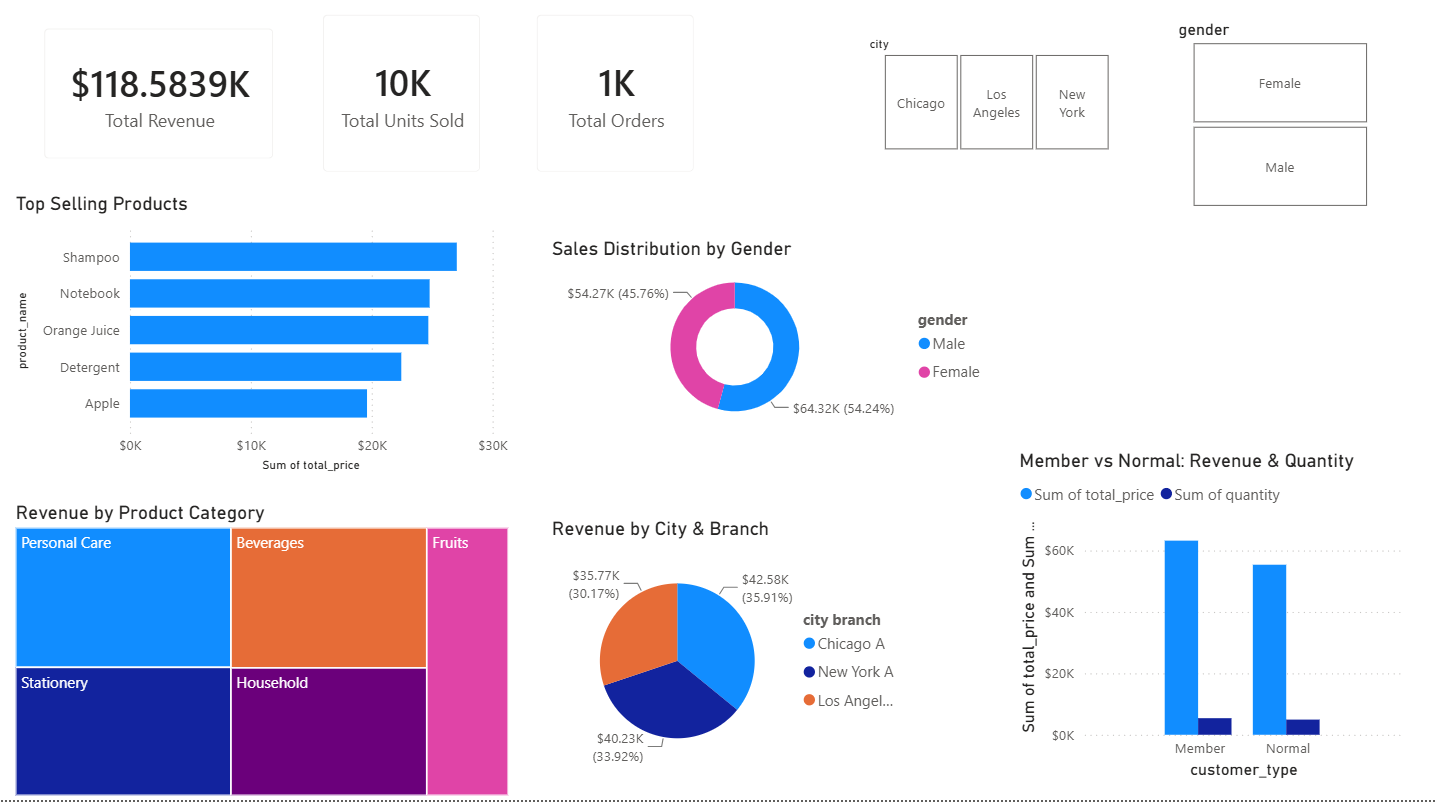

This screenshot's page, from the dashboard's own definition file:
{"tool":"powerbi","page":{"name":"Page 1","canvas":[1280,720],"ordinal":0},"visuals":[{"type":"cardVisual","fields":{"Data":["Sum(Query1.total_price)"]},"box":[23.3,15.1,238.8,150.9],"z":0},{"type":"cardVisual","fields":{"Data":["CountNonNull(Query1.sales_id)"]},"box":[461.8,3.4,174.3,174.3],"z":1},{"type":"cardVisual","fields":{"Data":["Sum(Query1.quantity)"]},"box":[271.7,3.4,174.3,174.3],"z":3},{"type":"clusteredBarChart","title":"Top Selling Products","fields":{"Y":["Sum(Query1.total_price)"],"Category":["Query1.product_name"]},"box":[9.6,178.4,448.7,253.9],"z":4},{"type":"pieChart","title":"Revenue by City & Branch","fields":{"Category":["Query1.city","Query1.branch"],"Y":["Sum(Query1.total_price)"]},"box":[487.1,467.9,329.3,237.4],"z":5},{"type":"clusteredColumnChart","title":"Member vs Normal: Revenue & Quantity","fields":{"Category":["Query1.customer_type"],"Y":["Sum(Query1.total_price)","Sum(Query1.quantity)"]},"box":[904.3,407.5,351.3,297.8],"z":6},{"type":"treemap","title":"Revenue by Product Category","fields":{"Group":["Query1.product_category"],"Values":["Sum(Query1.total_price)"]},"box":[9.6,452.8,448.7,267.6],"z":7},{"type":"donutChart","title":"Sales Distribution by Gender","fields":{"Y":["Sum(Query1.total_price)"],"Category":["Query1.gender"]},"box":[487.1,218.2,400.7,177],"z":8},{"type":"slicer","fields":{"Values":["Query1.city"]},"box":[763,34.3,249.7,112.5],"z":9},{"type":"slicer","fields":{"Values":["Query1.gender"]},"box":[1037.4,20.6,204.5,177],"z":10}]}

Visuals, with their boxes in screenshot pixels (x1, y1, x2, y2), scaled from the page's 1280x720 canvas onto the 1437x805 screenshot:
cardVisual - Sum(Query1.total_price): [26,17,294,186]
cardVisual - CountNonNull(Query1.sales_id): [518,4,714,199]
cardVisual - Sum(Query1.quantity): [305,4,501,199]
"Top Selling Products" clusteredBarChart: [11,199,515,483]
"Revenue by City & Branch" pieChart: [547,523,917,789]
"Member vs Normal: Revenue & Quantity" clusteredColumnChart: [1015,456,1410,789]
"Revenue by Product Category" treemap: [11,506,515,804]
"Sales Distribution by Gender" donutChart: [547,244,997,442]
slicer - Query1.city: [857,38,1137,164]
slicer - Query1.gender: [1165,23,1394,221]
